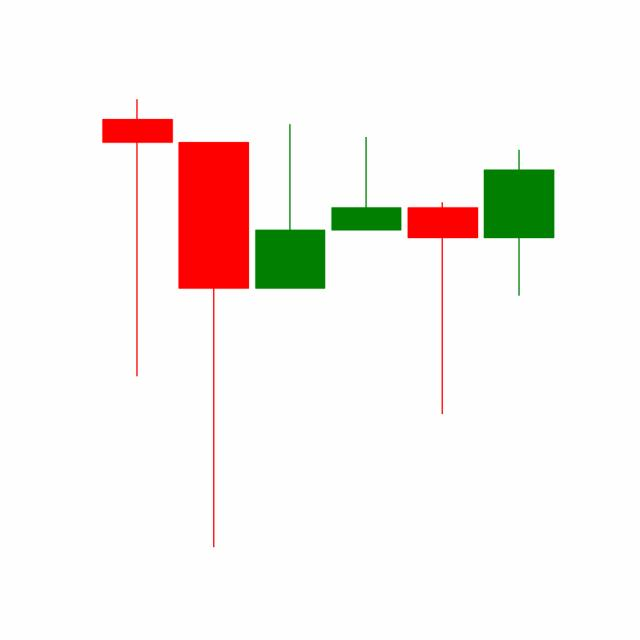Hammer: (403, 199, 481, 416)
